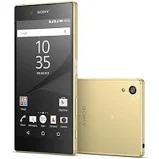sony: (13, 1, 77, 156)
